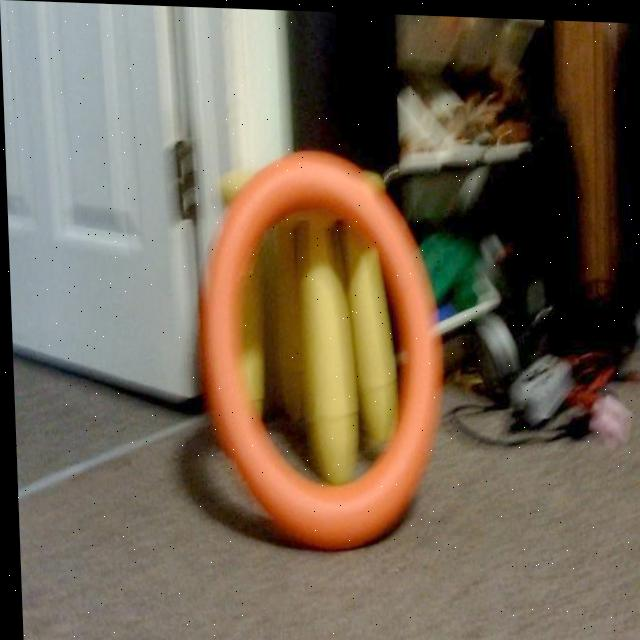note: (190, 141, 448, 560)
